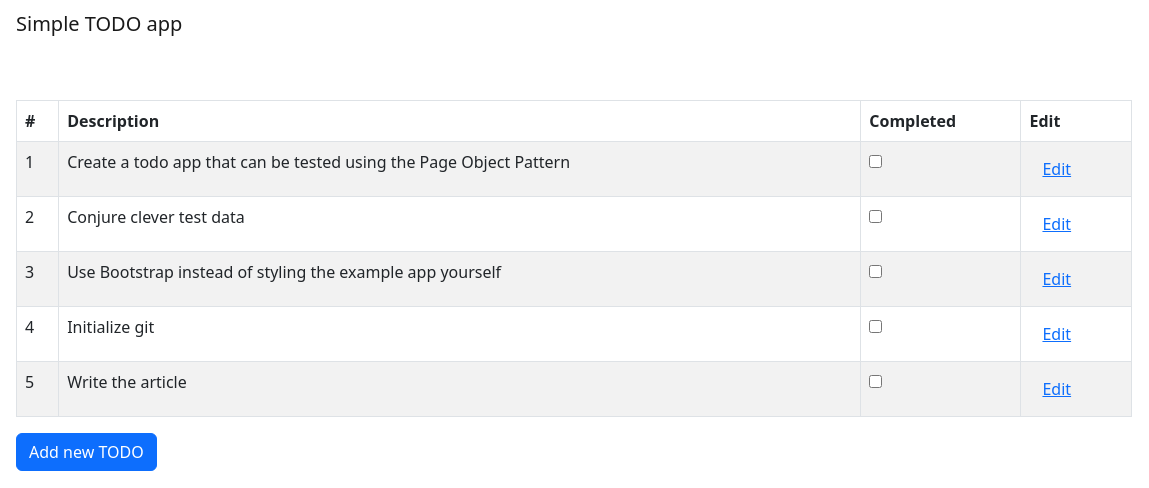
Test: Integration-test › should edit a TODO description
Click the 1st button "Edit": [1057, 169] box [1030,150,1084,188]
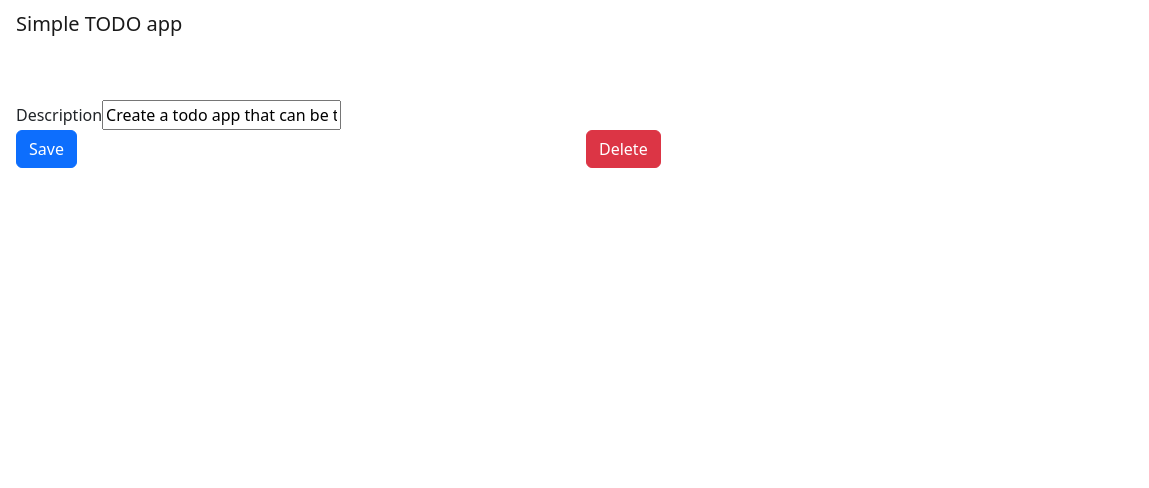
Replace the text in the field labelled "Description" with "This description has been altered": [222, 115] box [102,100,341,130]
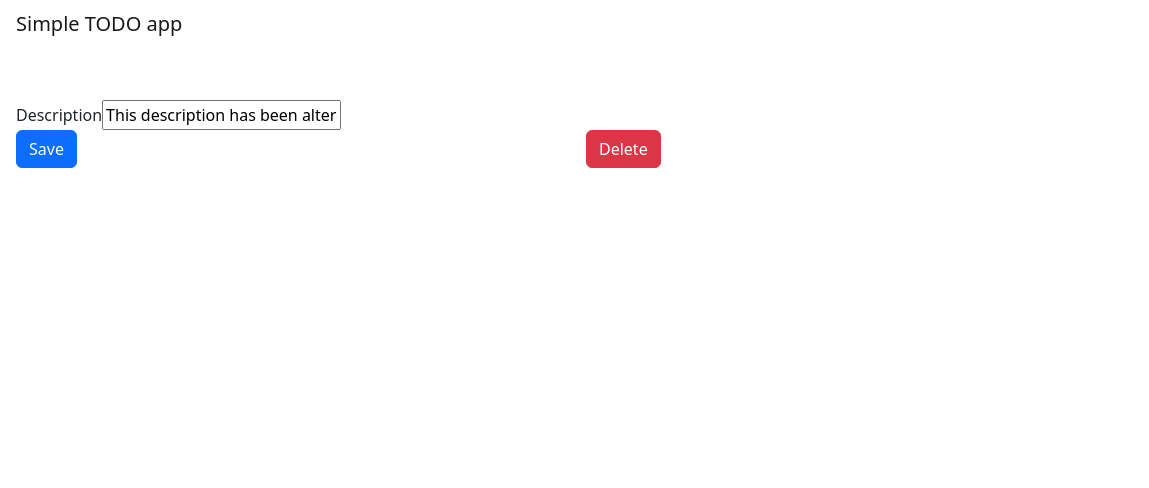
Click the button "Save": [46, 149] box [16,130,77,168]
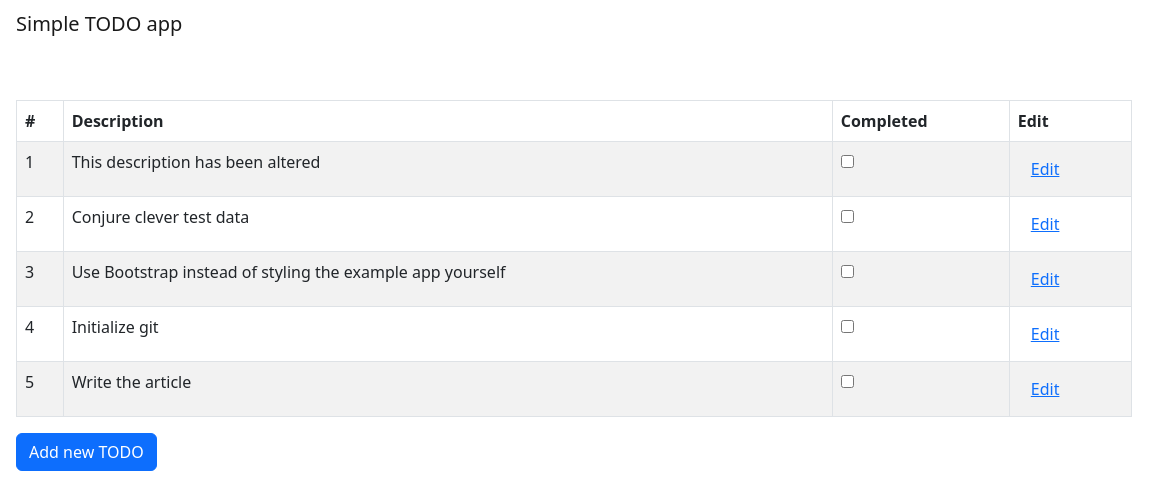
Check: the cell "This description has been altered" is shown, box [63,142,832,196]
